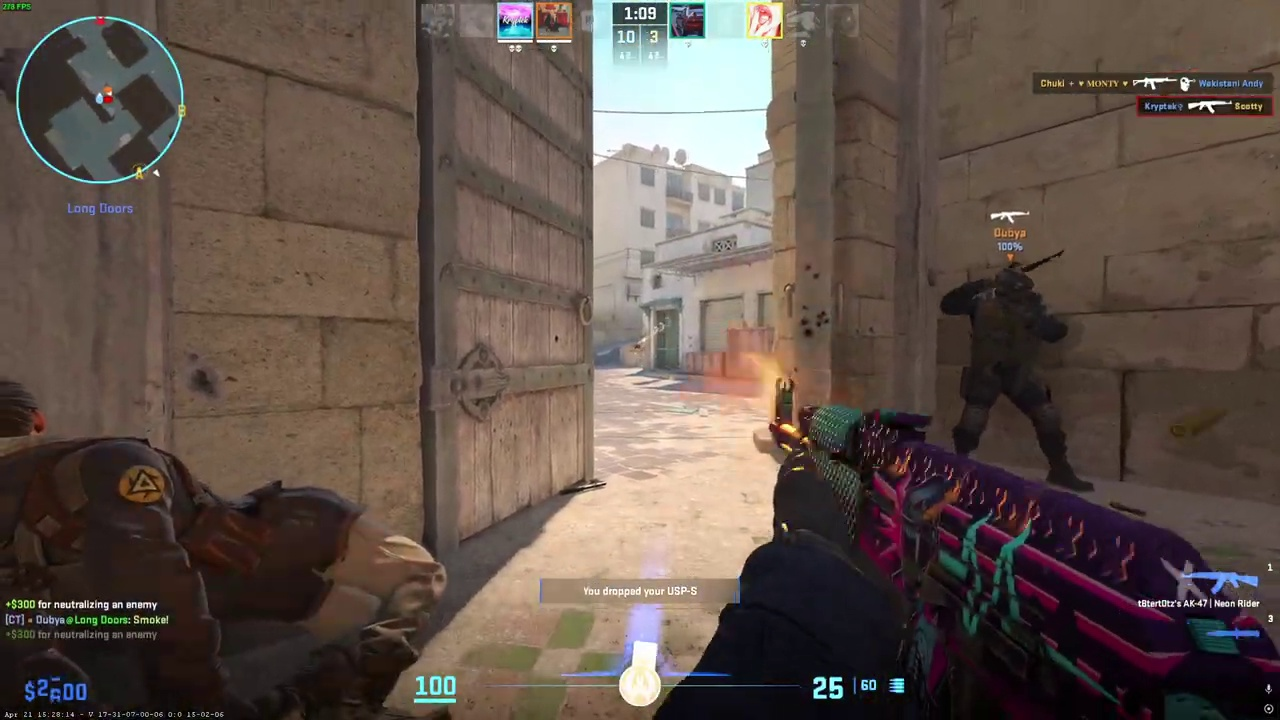CT: (950, 267, 1088, 492)
